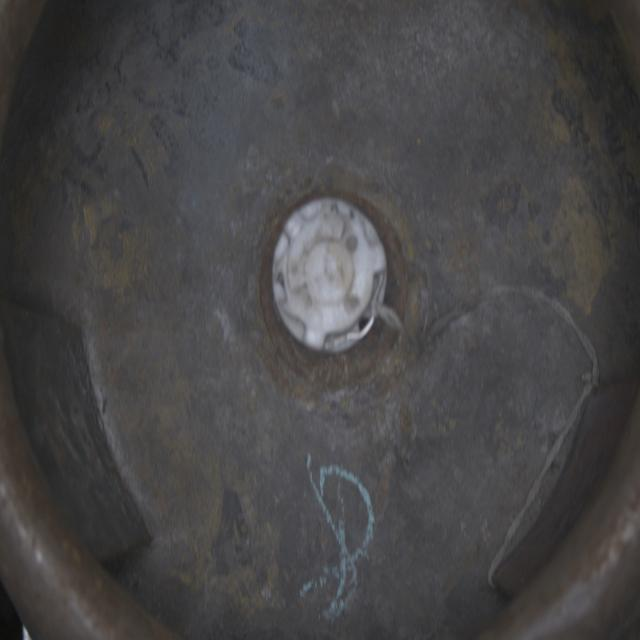Cap: (270, 195, 389, 356)
